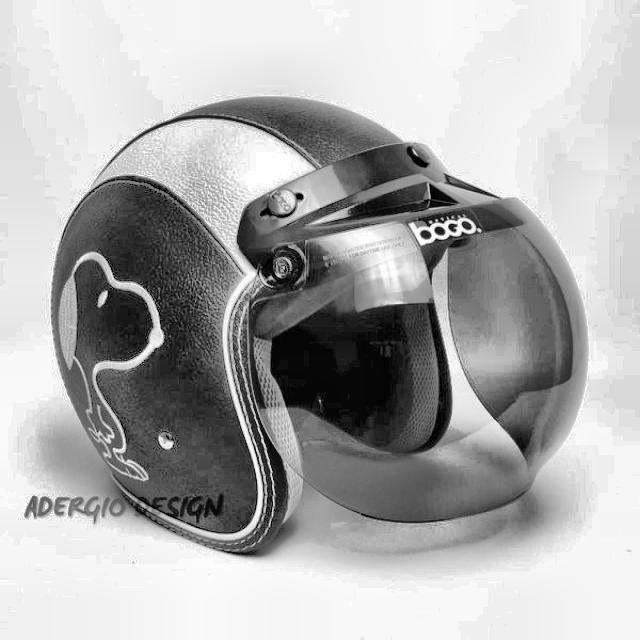Helmet: (46, 88, 600, 559)
